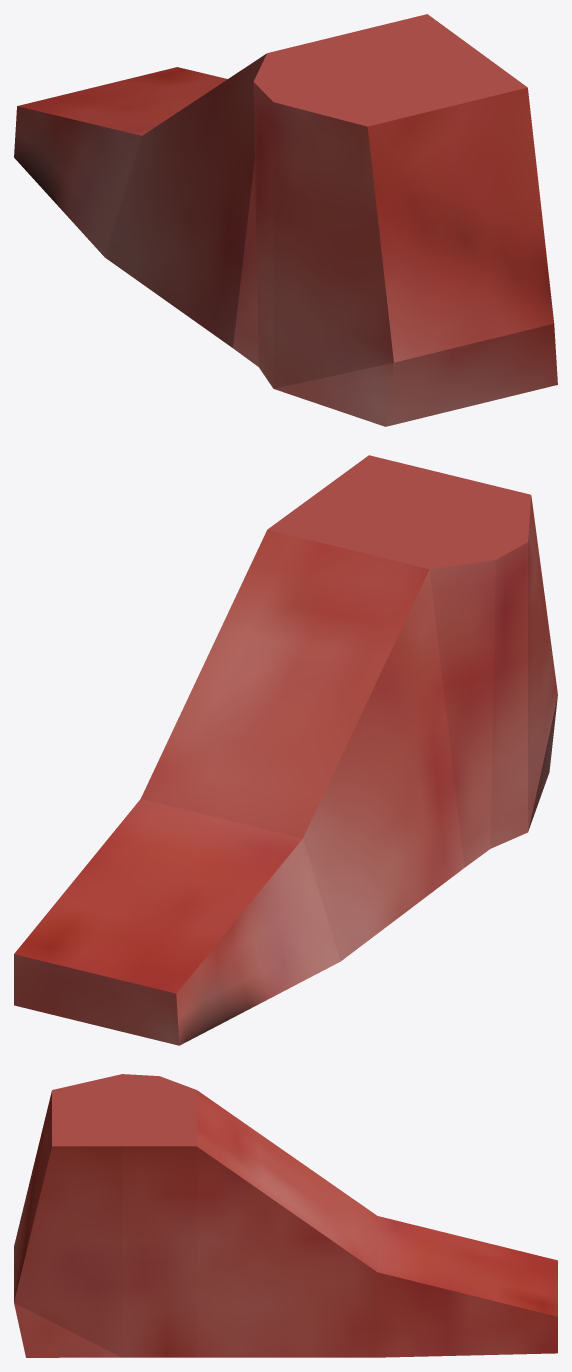
Rendered from GoatMan_Gib_Foot-Copy.fbx.
3 views of the same model, one above another, from view 1: azimuth 30°, elevation 25°; view 2: azimuth 150°, elevation 25°; view 3: azimuth 270°, elevation 25° (orthographic). The views are drawn at different scales.
Visible parts, largest first — view 1: Body; view 2: Body; view 3: Body.
Part boxes in pixels (x1,y1,x2,y2): Body: (14,14,557,426); Body: (14,455,557,1045); Body: (14,1074,557,1357).
Bounding box in the file's own units: 15.28 × 19.24 × 45.79.
